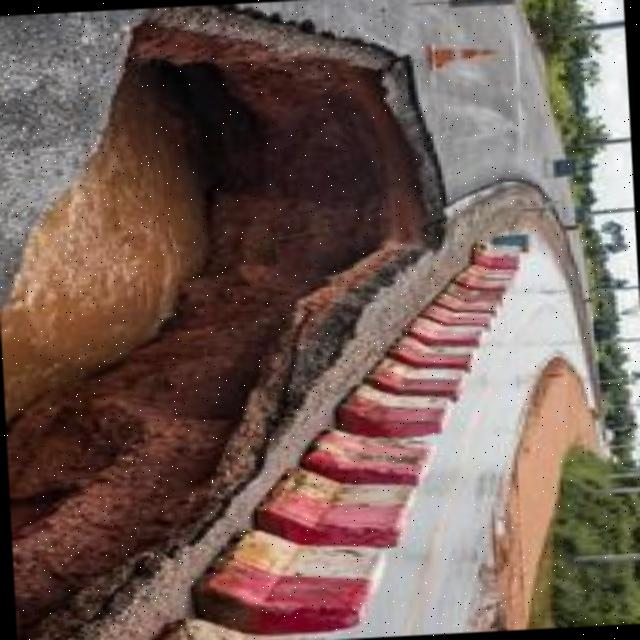road collapse: (0, 0, 533, 640)
